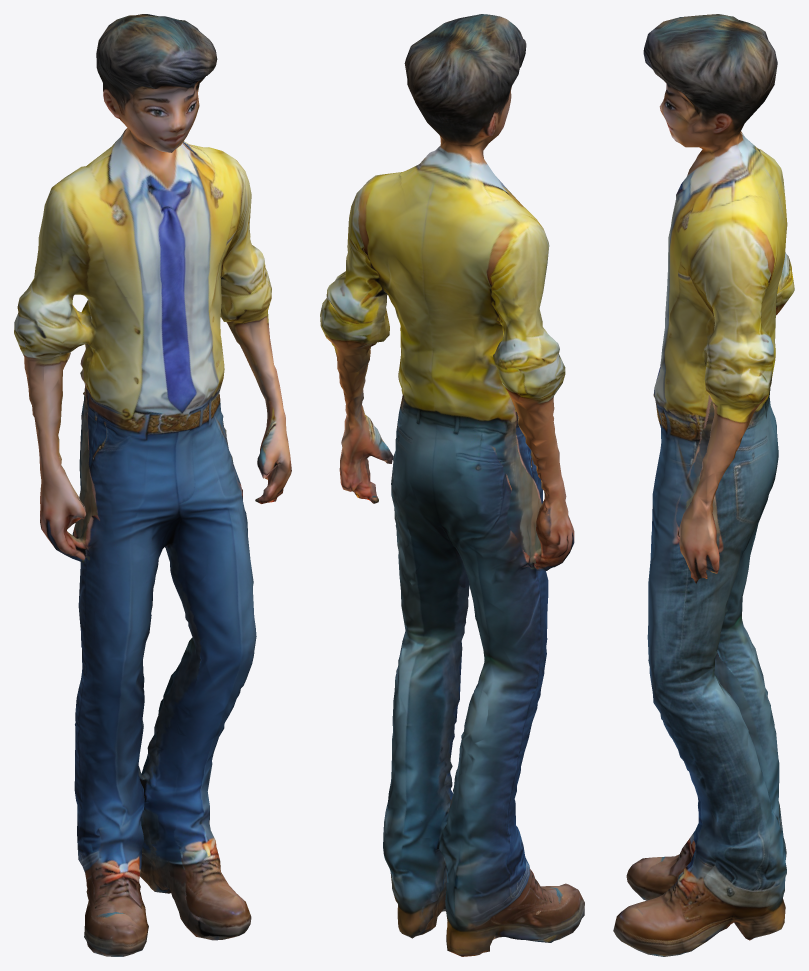
The model's file is Remaja.glb.
The picture shows the model from 3 angles, left to right: view 1: azimuth 30°, elevation 25°; view 2: azimuth 150°, elevation 25°; view 3: azimuth 270°, elevation 25°; orthographic projection.
Size of the model in its own units: 0.3355 by 1.2 by 0.2164.
Materials: 1 (1 with a texture image).
